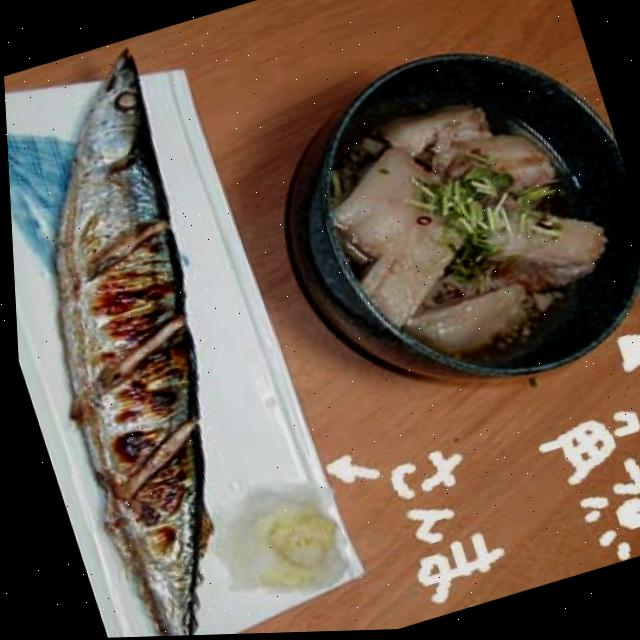熟制海鲜: (4, 98, 261, 640)
猪肉菜式: (212, 22, 640, 507)
